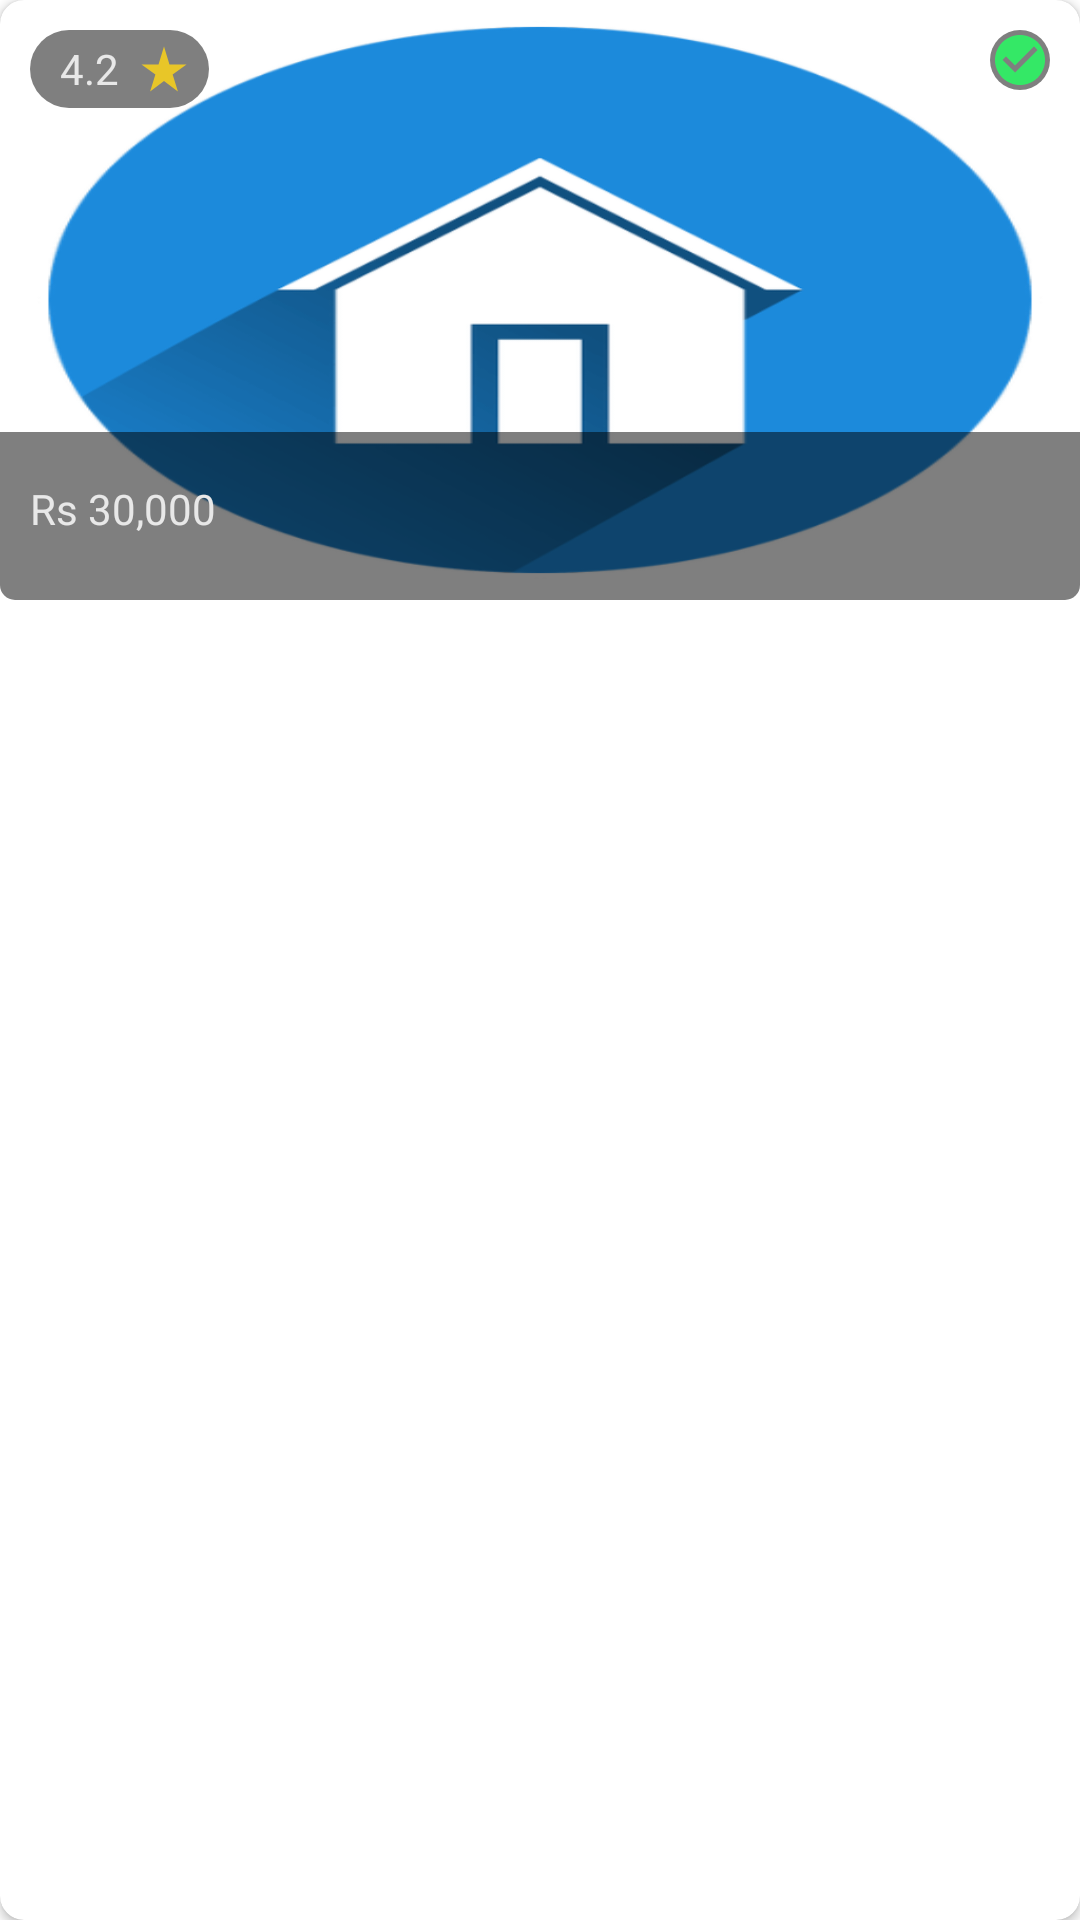

Screen size 1080x1920. Icon name, then its box in pixels as region(x1, y1, x2, y2):
check circle: region(990, 30, 1050, 90)
star rate: region(142, 47, 186, 91)
